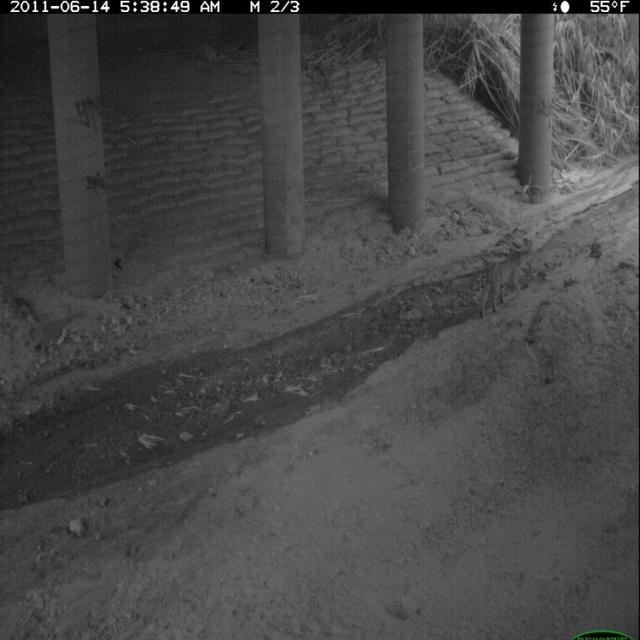bobcat: (479, 246, 526, 318)
